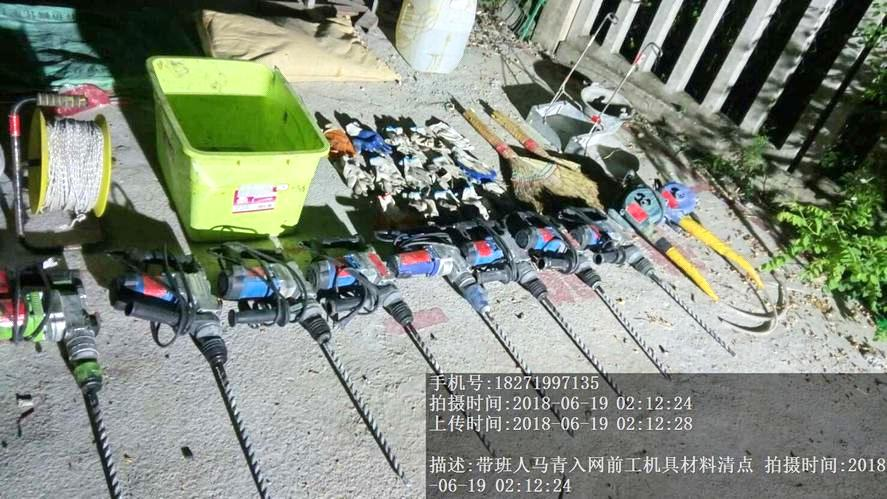DZ: (116, 254, 232, 426), (222, 254, 354, 397), (327, 241, 430, 362), (405, 235, 505, 351)
SB: (468, 117, 597, 208)
T: (142, 53, 326, 239)
